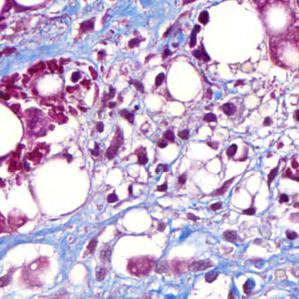steatosis: (164, 55, 207, 103)
